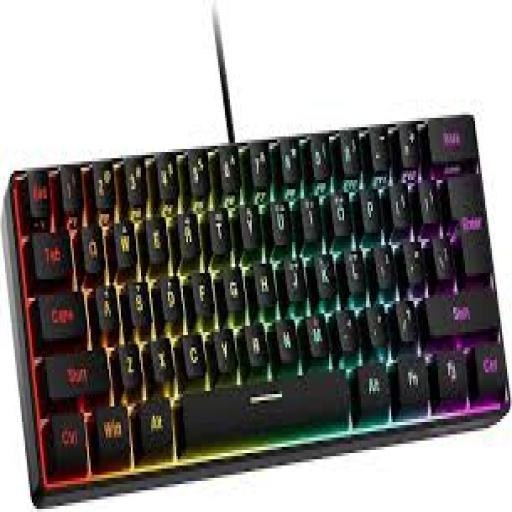keyboard: (7, 115, 510, 503)
